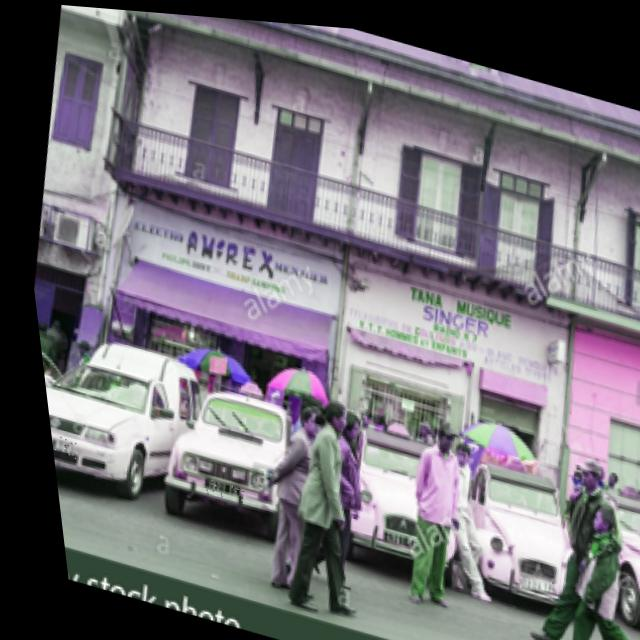license_plate: (503, 565, 545, 597), (190, 473, 233, 501), (40, 429, 71, 459)
